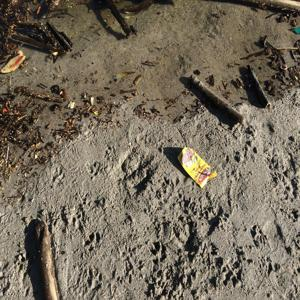plastic: (169, 145, 221, 187), (9, 53, 26, 73)
